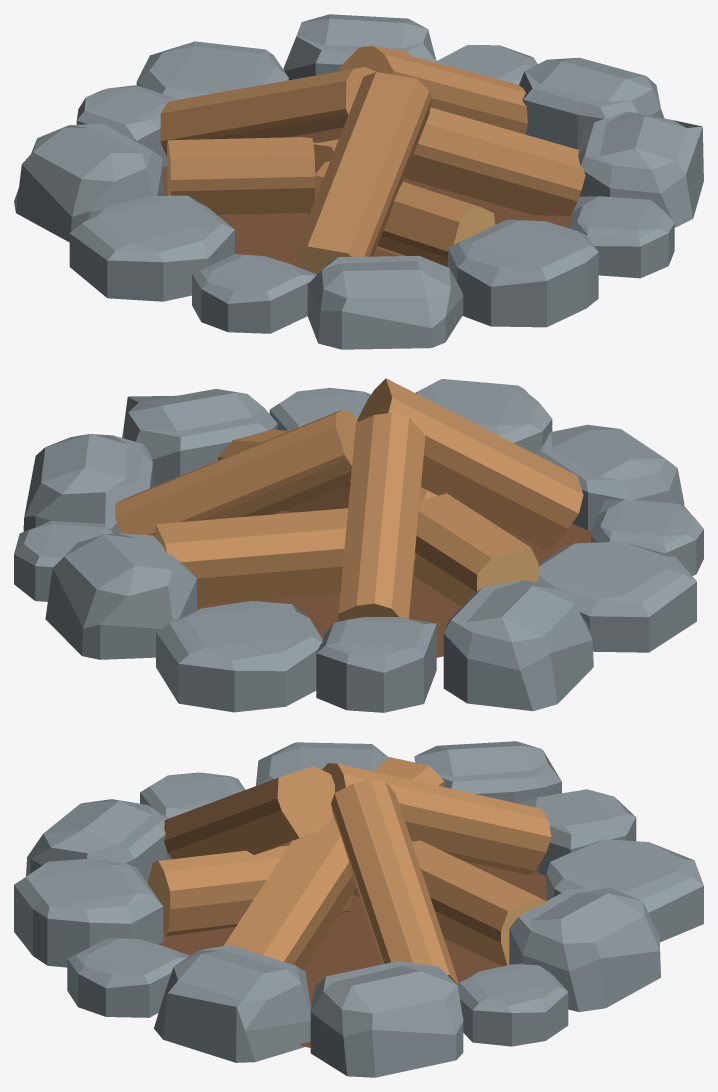
File: campfire.glb
3 renders of one model, top to bottom at view 1: azimuth 30°, elevation 25°; view 2: azimuth 150°, elevation 25°; view 3: azimuth 270°, elevation 25°, orthographic. The views are drawn at different scales.
Visible parts, largest first — view 1: deck7, rock5, rock12, rock4, deck2, rock11, deck6, rock2, deck4, rock1, rock10, rock3 (+8 smaller); view 2: rock11, rock6, deck7, deck1, rock7, deck4, deck3, rock12, rock9, rock1, rock2, deck6 (+7 smaller); view 3: rock1, rock2, rock7, deck1, rock5, deck4, deck2, deck7, rock6, deck5, deck3, rock8 (+8 smaller).
Boxes of the visible parts, bbox=[...] form: deck7: bbox=[294, 72, 431, 274]; rock5: bbox=[448, 219, 598, 327]; rock12: bbox=[69, 195, 234, 301]; rock4: bbox=[307, 255, 463, 349]; deck2: bbox=[404, 107, 585, 215]; rock11: bbox=[14, 123, 163, 242]; deck6: bbox=[167, 137, 315, 214]; rock2: bbox=[578, 111, 703, 227]; deck4: bbox=[160, 67, 376, 155]; rock1: bbox=[519, 57, 664, 149]; rock10: bbox=[192, 254, 316, 333]; rock3: bbox=[568, 196, 674, 278]; rock11: bbox=[443, 580, 593, 711]; rock6: bbox=[156, 601, 322, 712]; deck7: bbox=[357, 378, 583, 549]; deck1: bbox=[115, 409, 357, 536]; rock7: bbox=[45, 533, 196, 659]; deck4: bbox=[338, 412, 425, 621]; deck3: bbox=[154, 508, 415, 605]; rock12: bbox=[536, 542, 696, 652]; rock9: bbox=[316, 617, 436, 712]; rock1: bbox=[23, 434, 152, 533]; rock2: bbox=[122, 389, 277, 486]; deck6: bbox=[414, 493, 538, 606]; rock1: bbox=[310, 961, 463, 1077]; rock2: bbox=[154, 945, 310, 1062]; rock7: bbox=[509, 887, 660, 1011]; deck1: bbox=[331, 779, 458, 984]; rock5: bbox=[14, 858, 163, 967]; deck4: bbox=[322, 763, 551, 874]; deck2: bbox=[223, 817, 356, 969]; deck7: bbox=[164, 766, 335, 859]; rock6: bbox=[546, 839, 703, 942]; deck5: bbox=[147, 845, 352, 936]; deck3: bbox=[353, 840, 547, 966]; rock8: bbox=[457, 963, 568, 1046].
Size of the model in its own units: 9.46 by 2.44 by 9.4.
